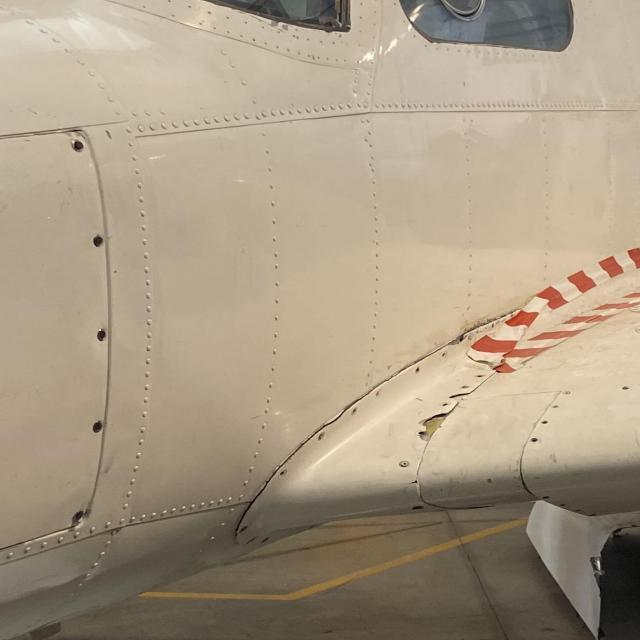Crack: (234, 494, 261, 540), (418, 411, 450, 440), (334, 393, 361, 418), (448, 390, 470, 401), (410, 479, 418, 485)
Missing-head: (278, 470, 288, 478), (531, 438, 538, 442)
Paint-off: (481, 475, 500, 488), (100, 127, 117, 141), (460, 77, 470, 92), (268, 20, 282, 28), (280, 23, 290, 32)
